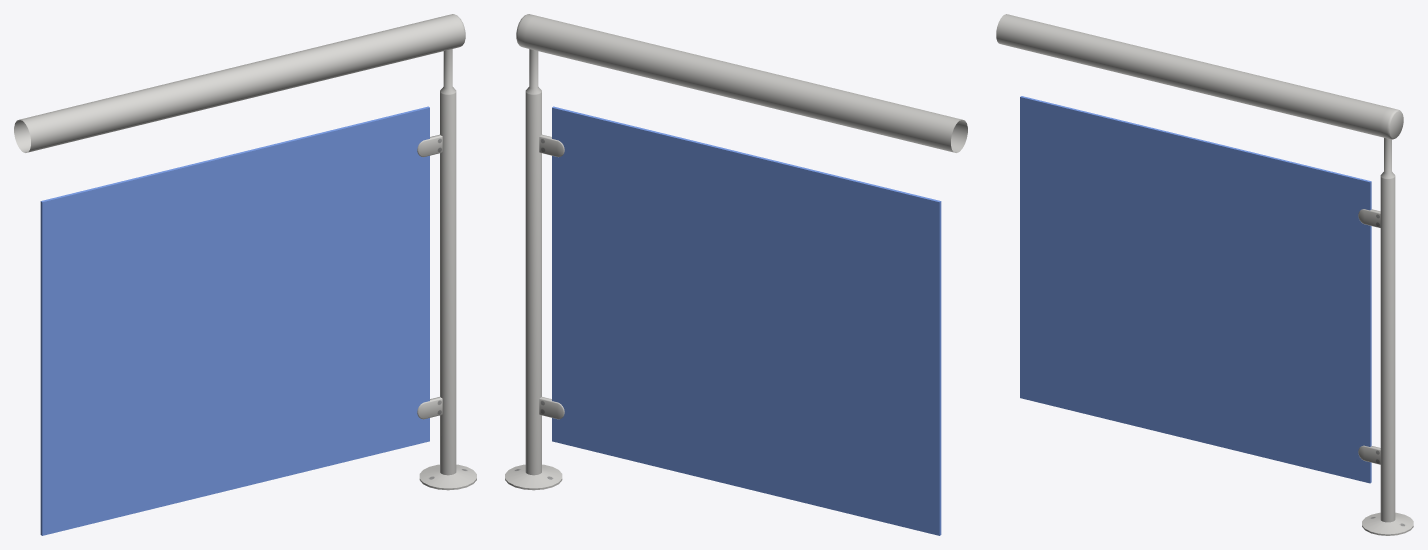
Rendered from Barrier01_3.FBX.
The picture shows the model from 3 angles, left to right: view 1: azimuth 30°, elevation 25°; view 2: azimuth 150°, elevation 25°; view 3: azimuth 330°, elevation 25°; orthographic projection. The views are drawn at different scales.
Parts seen in each view (by area): view 1: Glass, Metal; view 2: Glass, Metal; view 3: Glass, Metal.
Boxes of the visible parts, <box> form: Glass: <box>40,106,429,535</box>; Metal: <box>14,14,476,490</box>; Glass: <box>552,106,941,535</box>; Metal: <box>505,14,967,490</box>; Glass: <box>1020,96,1371,483</box>; Metal: <box>996,14,1413,535</box>.
Size of the model in its own units: 106 by 103 by 11.66.
